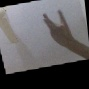hand: (40, 7, 73, 47)
